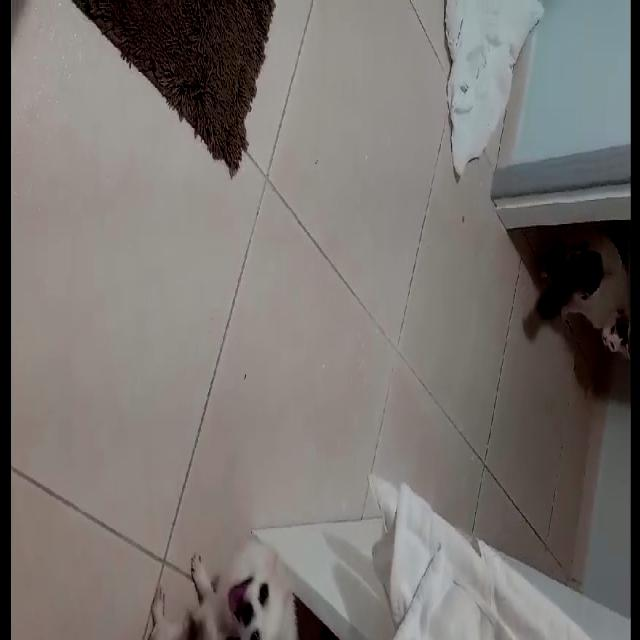Simba: (521, 220, 627, 384)
Theo: (122, 524, 306, 638)
